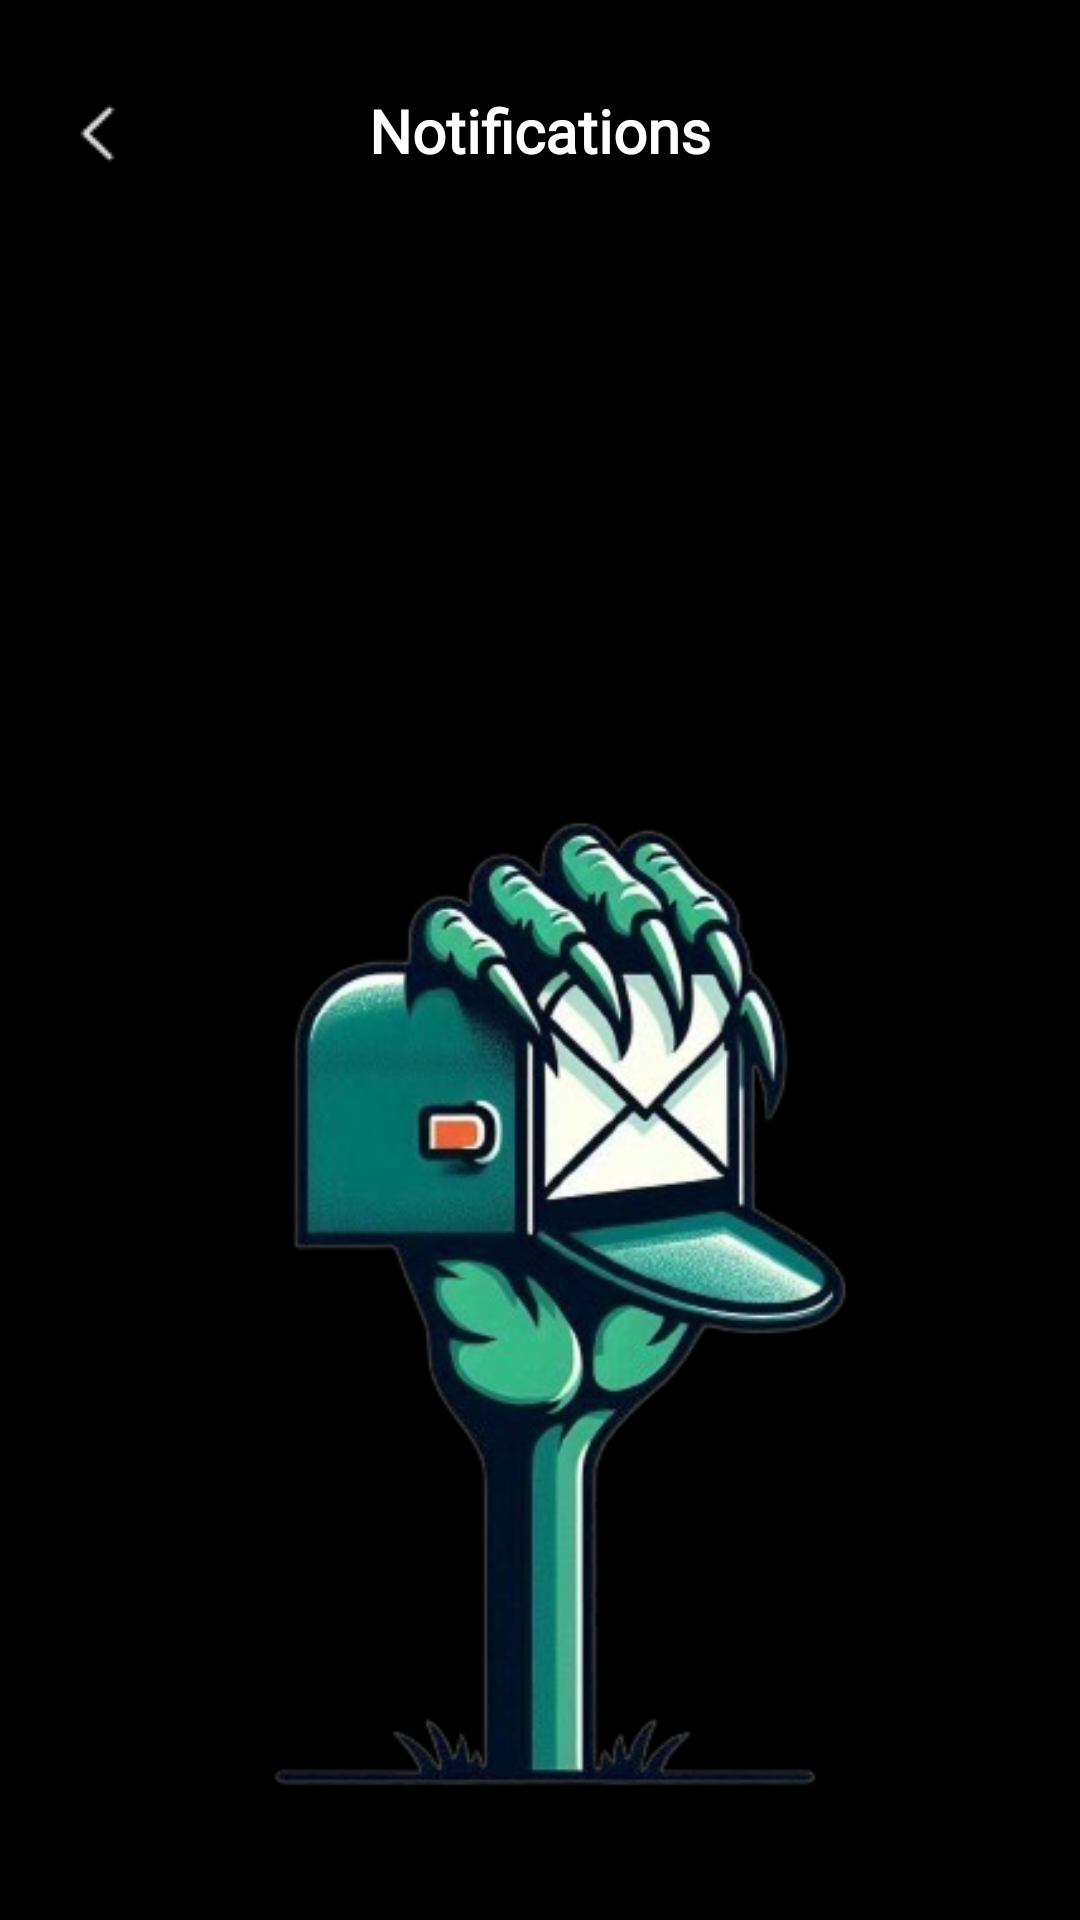

Icons on this 1080px x 1920px Android screen, each with the point to tap as (x=x, y=y):
chevron left: (x=97, y=133)
